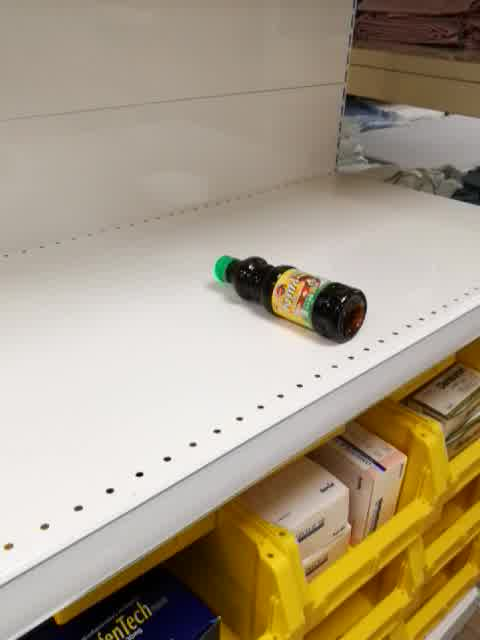cookingoil: (211, 251, 369, 347)
